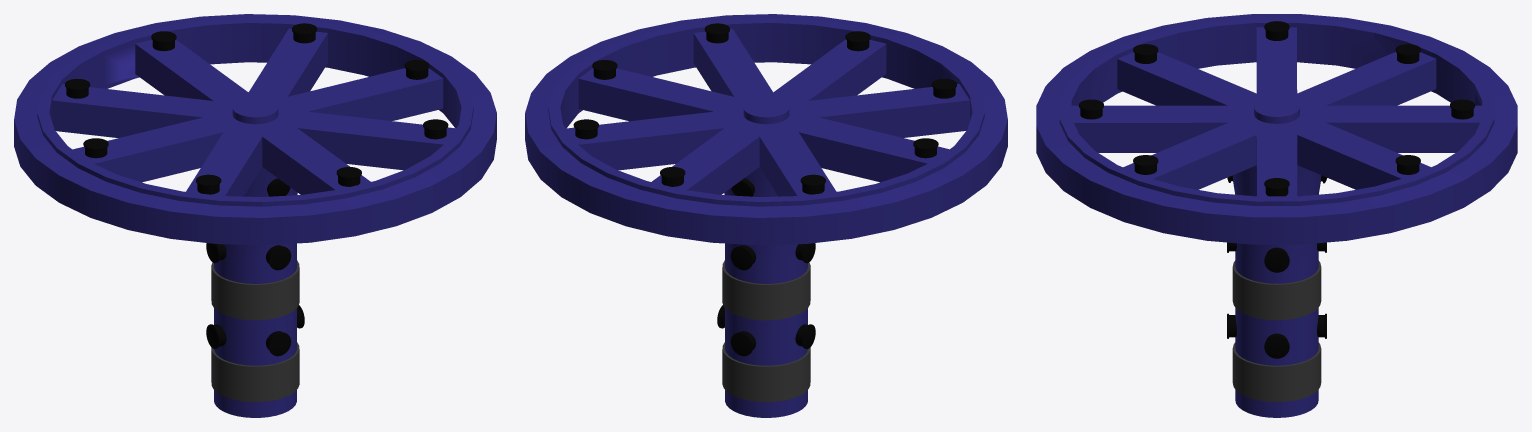
Rendered from valve2.fbx.
The picture shows the model from 3 angles, left to right: view 1: azimuth 30°, elevation 25°; view 2: azimuth 150°, elevation 25°; view 3: azimuth 270°, elevation 25°; orthographic projection.
Visible parts, largest first — view 1: Цилиндр.001, Цилиндр.003, Цилиндр.002; view 2: Цилиндр.001, Цилиндр.003, Цилиндр.002; view 3: Цилиндр.001, Цилиндр.003, Цилиндр.002.
Boxes of the visible parts, box(x1,y1,x2,y2) form: Цилиндр.001: box(14, 14, 496, 417); Цилиндр.003: box(211, 194, 299, 401); Цилиндр.002: box(65, 23, 448, 356); Цилиндр.001: box(525, 14, 1007, 417); Цилиндр.003: box(722, 194, 810, 401); Цилиндр.002: box(573, 23, 956, 356); Цилиндр.001: box(1036, 14, 1517, 417); Цилиндр.003: box(1232, 260, 1321, 401); Цилиндр.002: box(1078, 21, 1475, 358).
Size of the model in its own units: 57.84 by 39.31 by 57.84.
